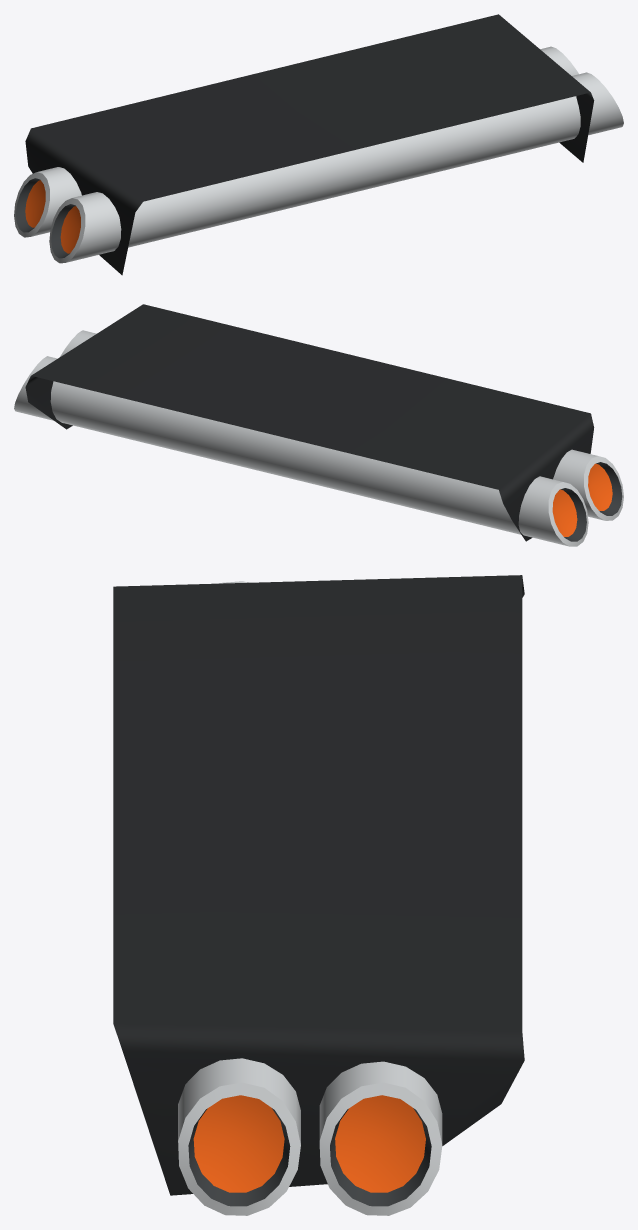
Rendered from Car_03_Turbine.fbx.
3 views of the same model, one above another, from view 1: azimuth 30°, elevation 25°; view 2: azimuth 150°, elevation 25°; view 3: azimuth 270°, elevation 25° (orthographic). The views are drawn at different scales.
Parts seen in each view (by area): view 1: Car_03_Turbine; view 2: Car_03_Turbine; view 3: Car_03_Turbine.
Boxes of the visible parts, x1,y1,x2,y2 form: Car_03_Turbine: (14,14,623,275); Car_03_Turbine: (14,304,623,546); Car_03_Turbine: (113,575,524,1215).
Bounding box in the file's own units: 232 × 73.93 × 33.17.
